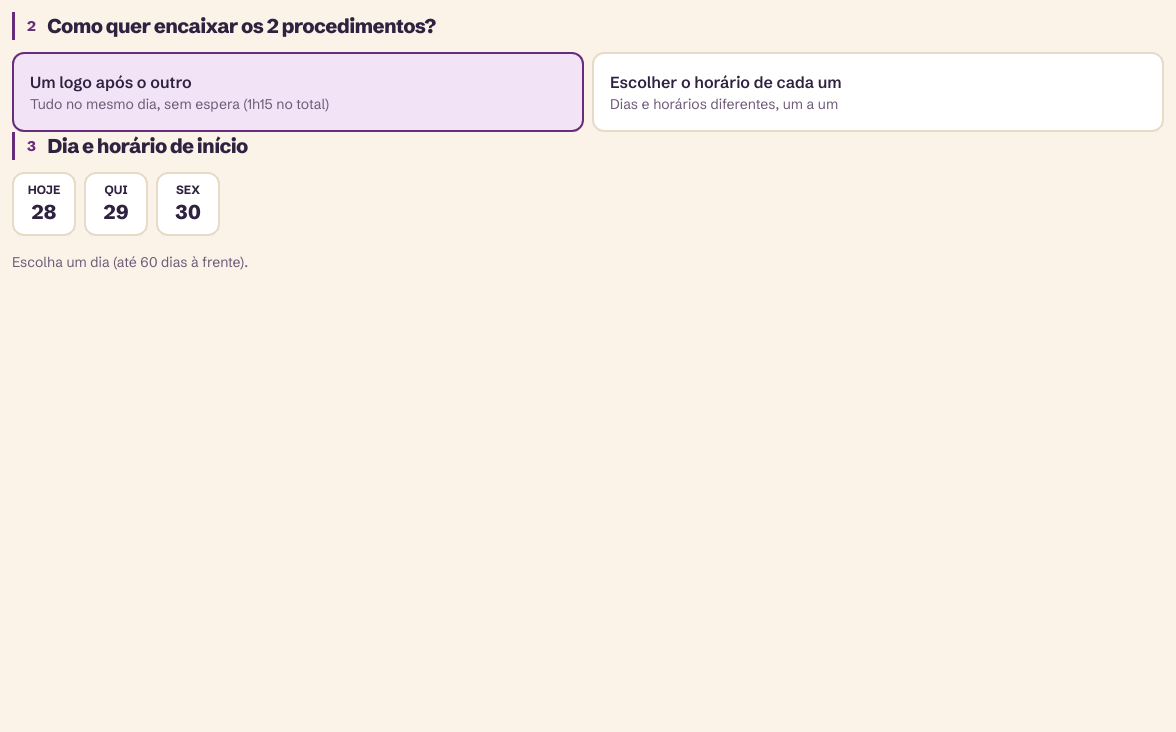
CartFlow: horário de cada um › dia sem horário livre avisa; enquanto carrega mostra o esqueleto
Click the radio button labelled "Escolher o horário de cada um": (726, 82) [592,52,1164,132]
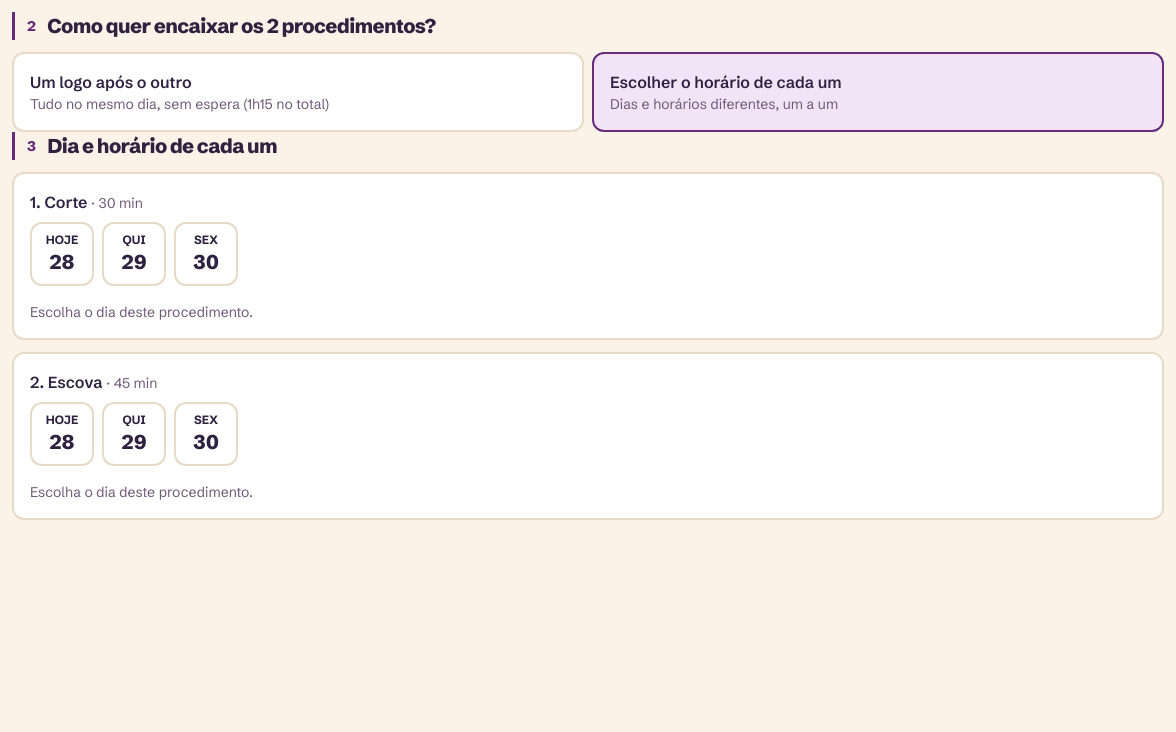
Click the button with aria-label "Dia de Corte 29/10": (134, 254) [102,222,166,286]
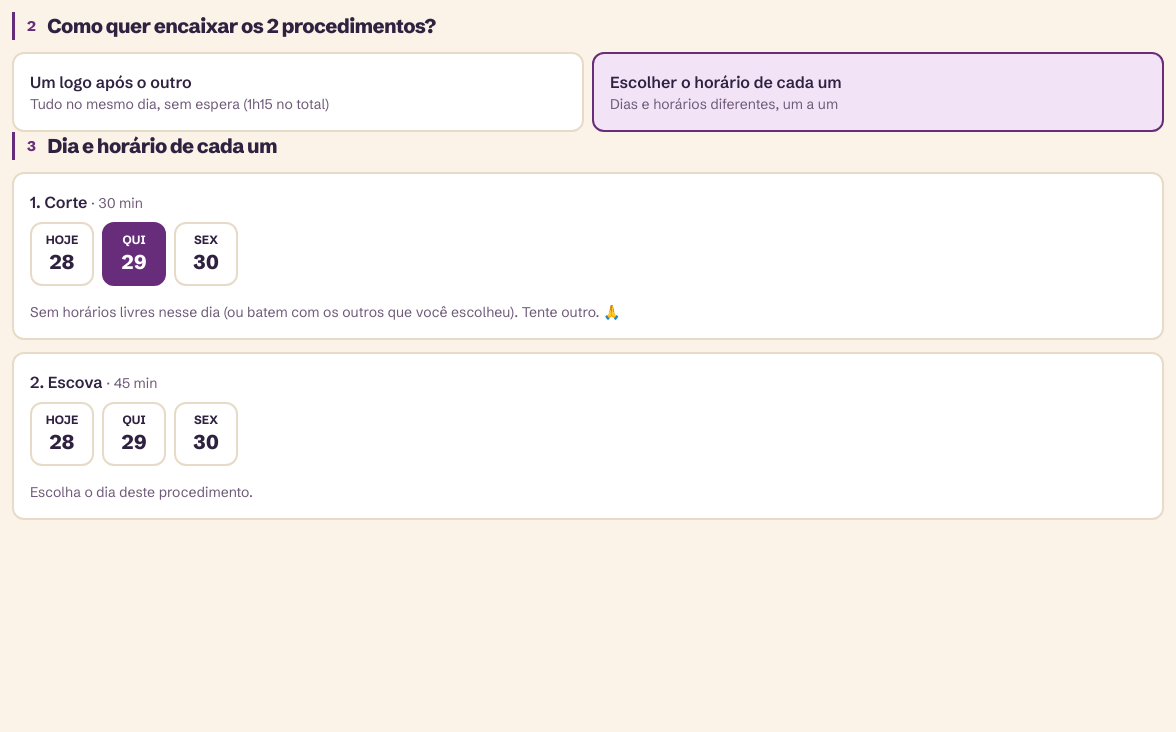
Result: the text "Sem horários livres nesse dia" is shown at [30,303,621,321]
